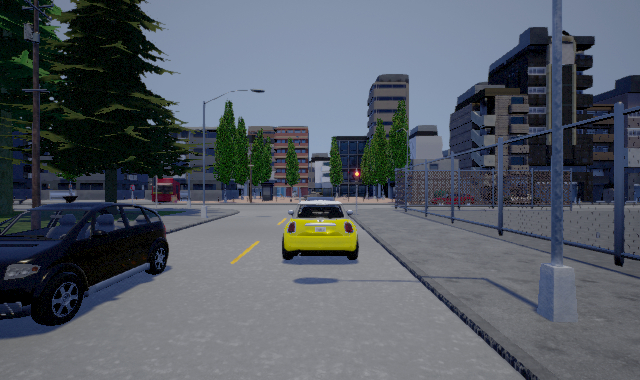traffic_light: (353, 169, 360, 181)
vehicle: (1, 202, 169, 326), (281, 199, 359, 260), (431, 192, 476, 207)
